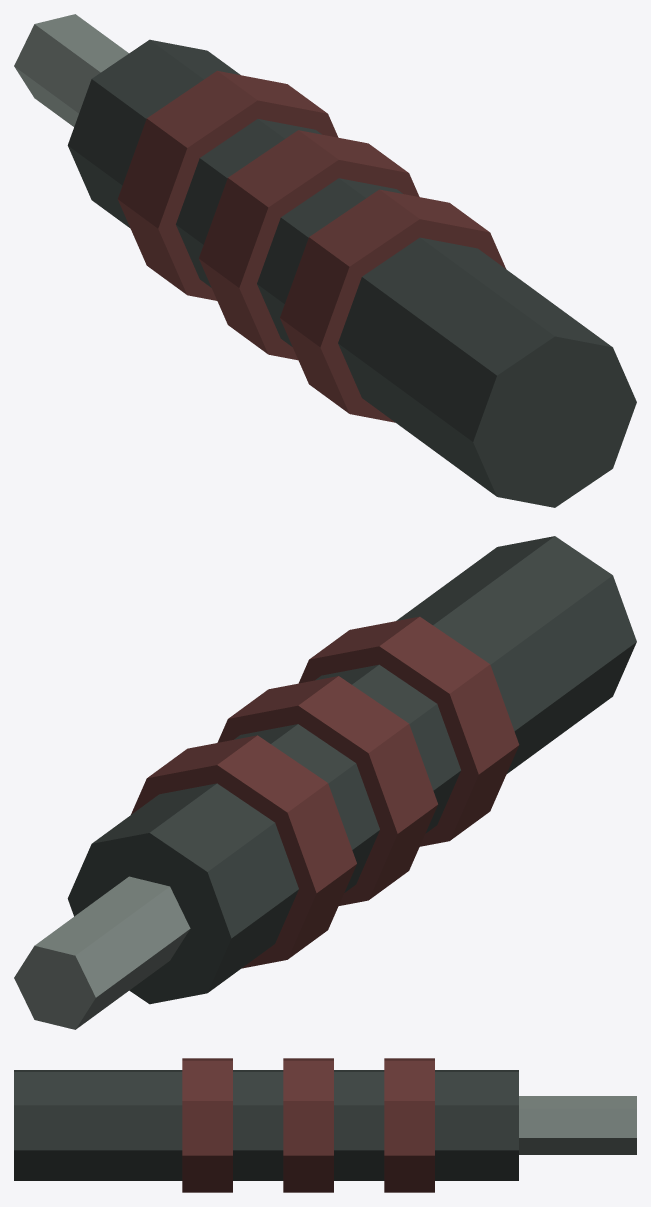
Rendered from cyclops_weapon.obj.
The picture shows the model from 3 angles, top to bottom: view 1: azimuth 30°, elevation 25°; view 2: azimuth 150°, elevation 25°; view 3: azimuth 270°, elevation 25°; orthographic projection. The views are drawn at different scales.
Visible parts, largest first — view 1: cyclops_weapon; view 2: cyclops_weapon; view 3: cyclops_weapon.
Boxes of the visible parts, <box> form: cyclops_weapon: <box>14,14,636,507</box>; cyclops_weapon: <box>14,536,636,1029</box>; cyclops_weapon: <box>14,1058,636,1192</box>.
Size of the model in its own units: 0.17 by 0.17 by 0.74.
